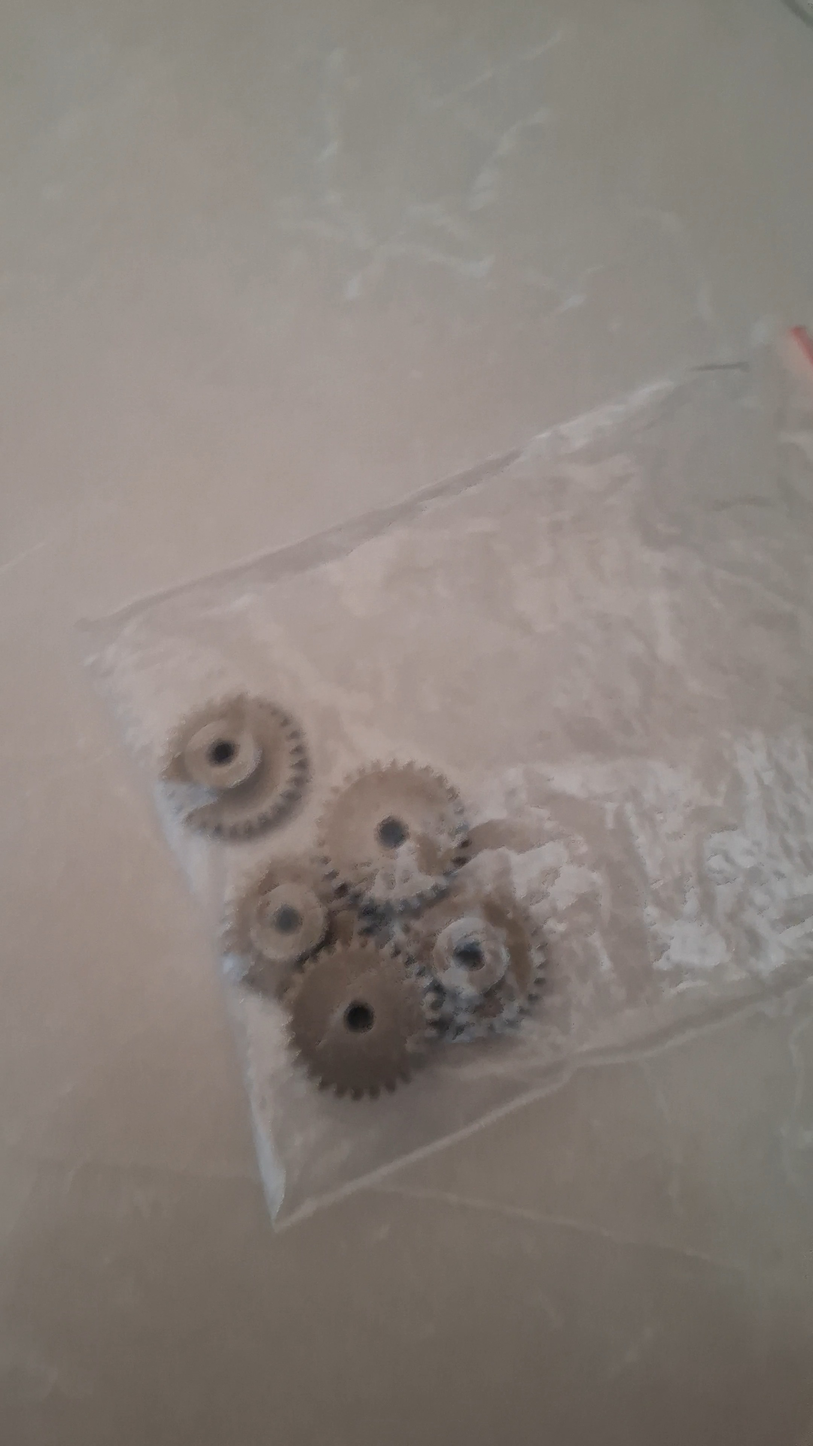spur gear: (289, 937, 427, 1099), (407, 882, 545, 1040), (320, 763, 467, 911), (161, 695, 308, 838), (221, 861, 331, 997)
